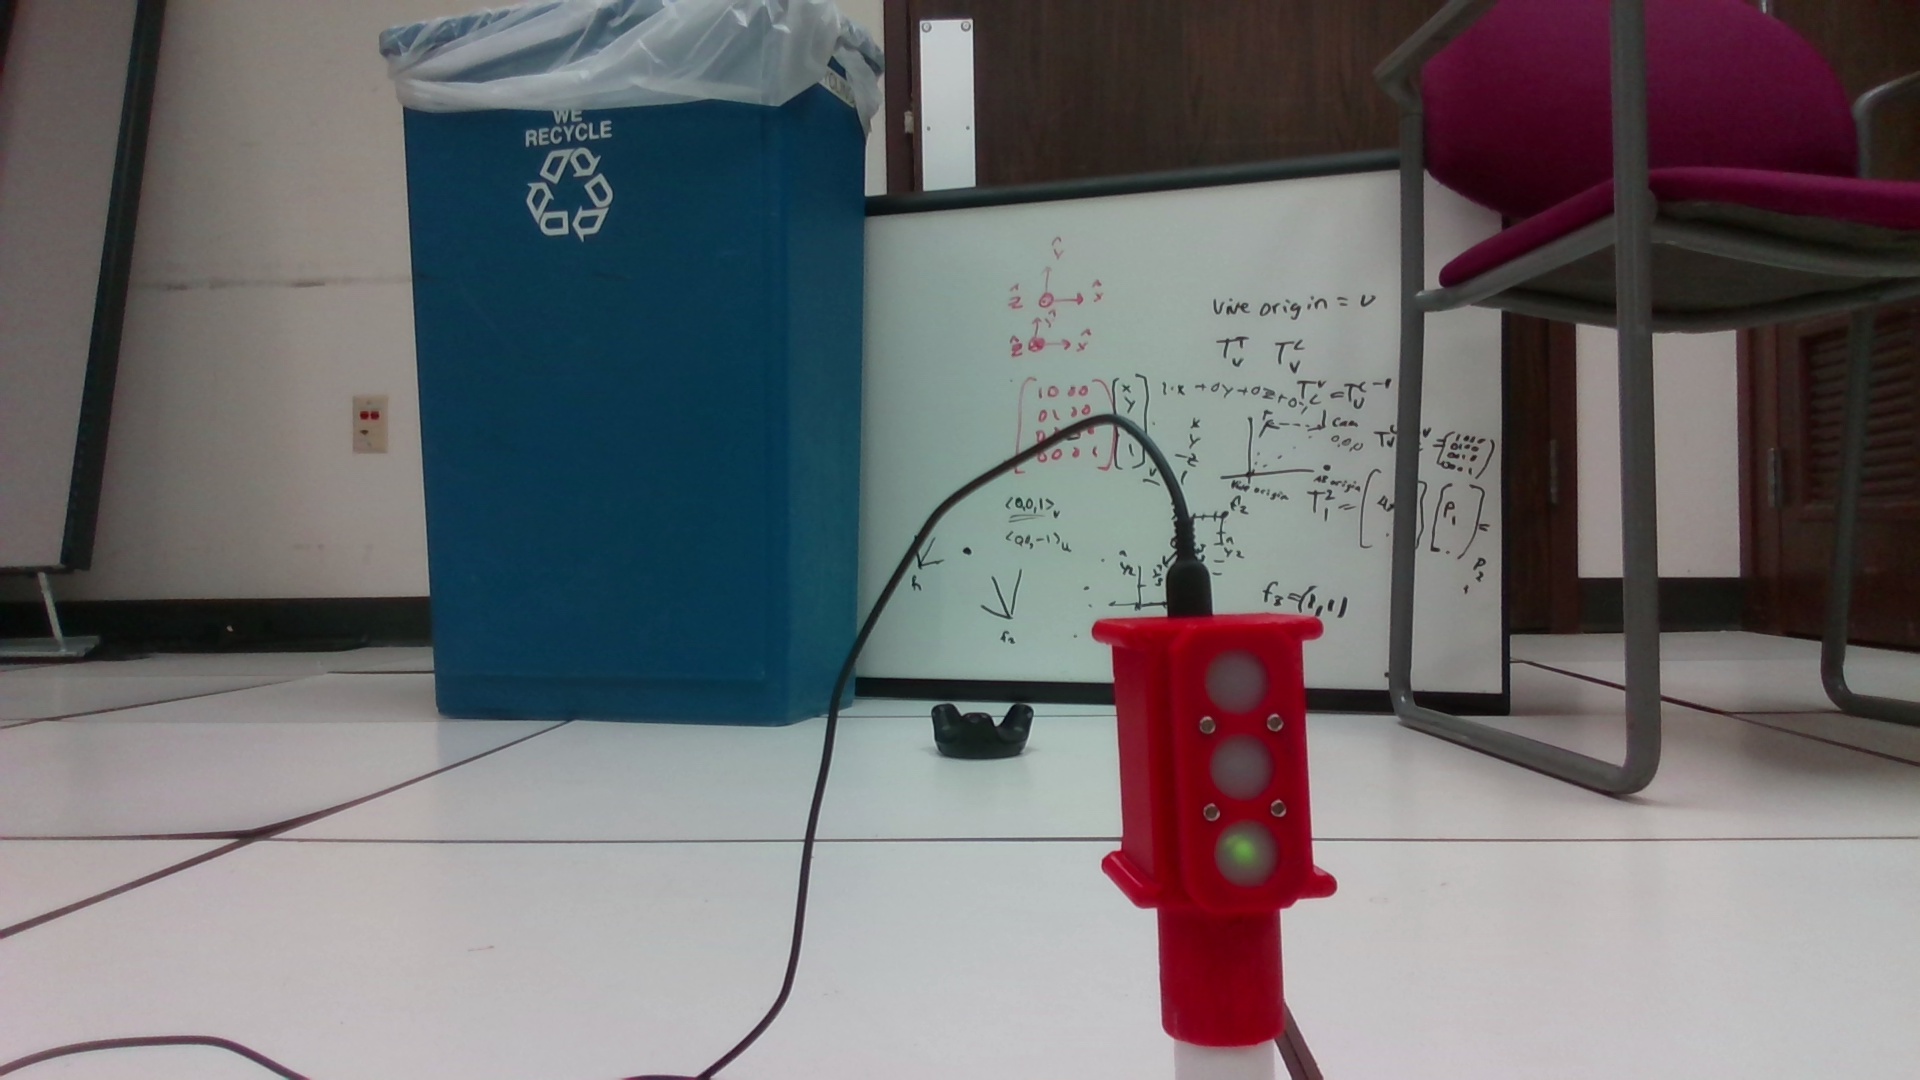stoplight: (1088, 617, 1337, 1044)
